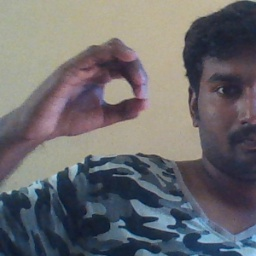O: (26, 35, 151, 145)
